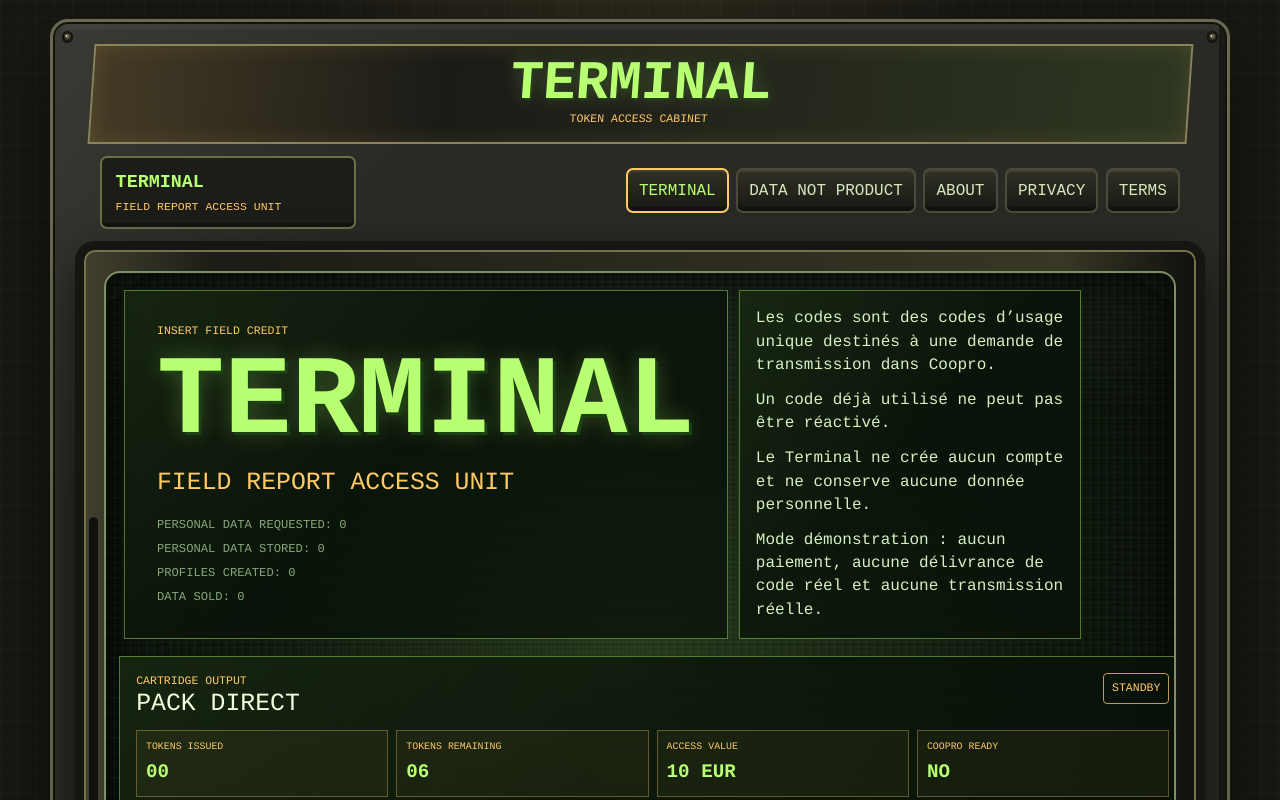
Test: Terminal app › routes internal pages through hashes on GitHub Pages
Click the button "privacy": (1052, 190) [1005, 168, 1098, 213]
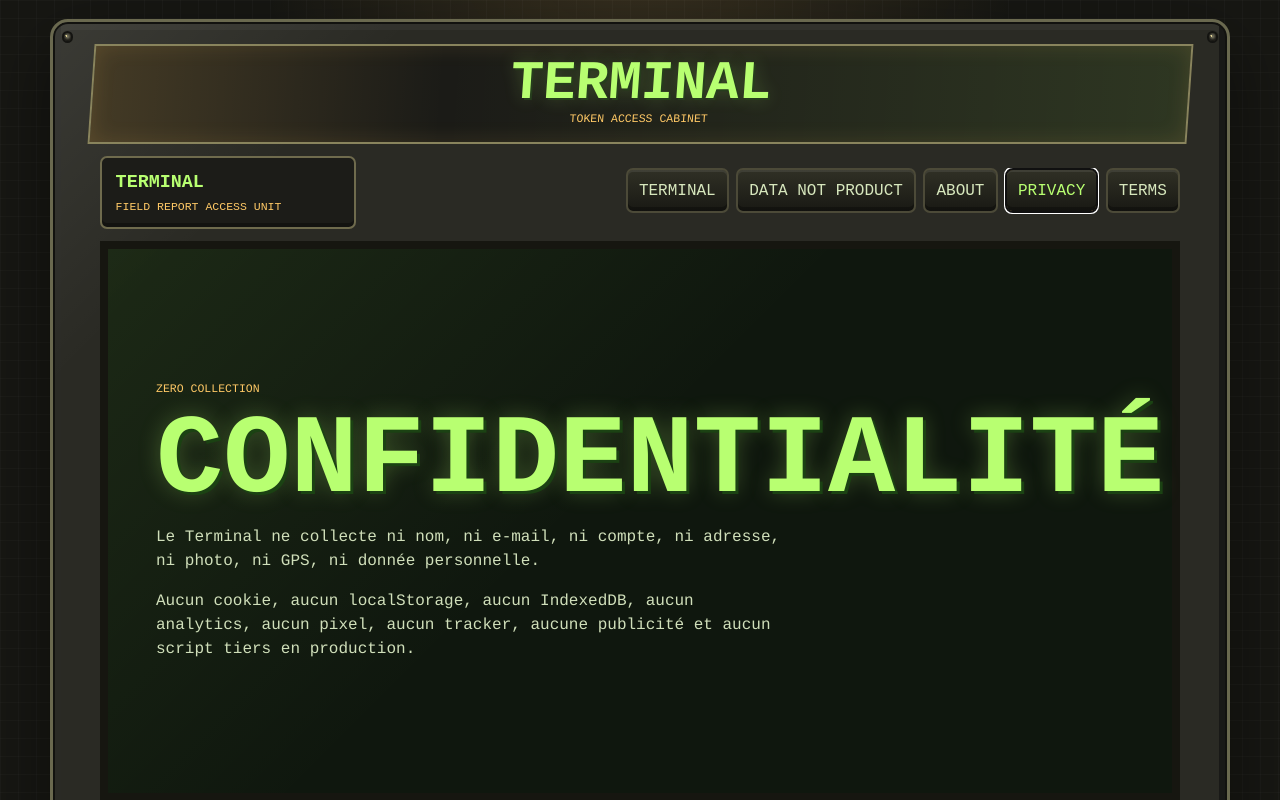
expect the heading "CONFIDENTIALITÉ" is shown: met, box [156, 414, 1164, 509]
